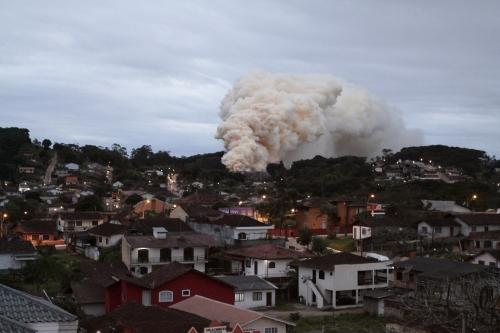smoke: (246, 95, 367, 156)
